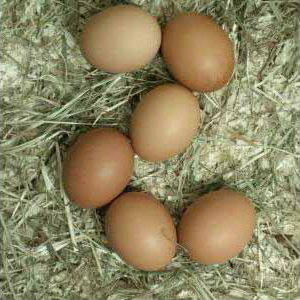egg: (102, 188, 177, 270), (61, 126, 134, 209), (176, 187, 256, 262), (162, 12, 236, 93), (129, 82, 201, 162), (80, 4, 161, 73)
